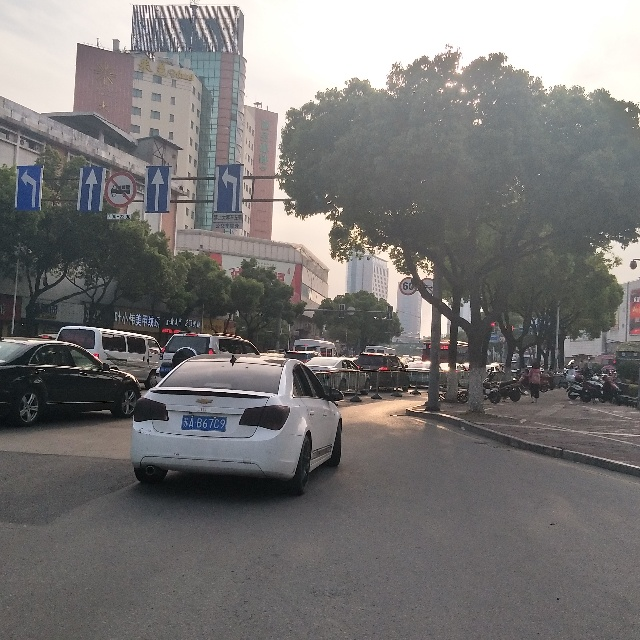left: (213, 164, 242, 213), (14, 165, 43, 212)
straight: (144, 166, 171, 214), (77, 167, 105, 212)
